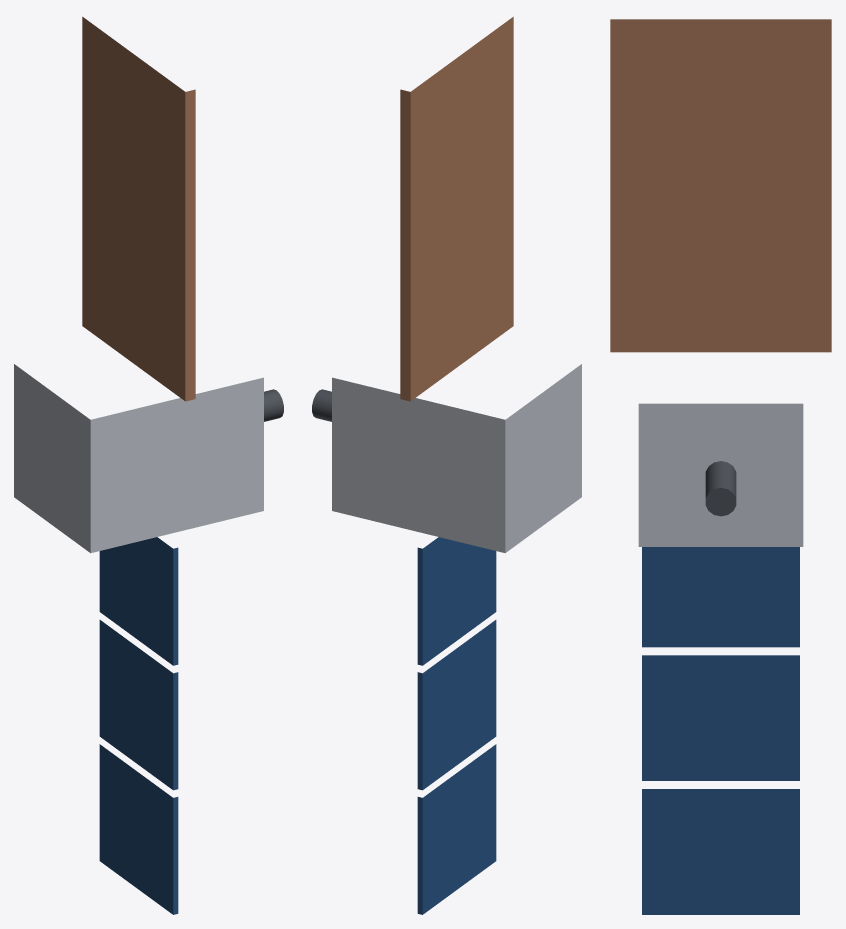
3 views of the same model, side by side, from view 1: azimuth 30°, elevation 25°; view 2: azimuth 150°, elevation 25°; view 3: azimuth 270°, elevation 25° (orthographic). The views are drawn at different scales.
Size of the model in its own units: 4.4 by 15.63 by 3.5.
